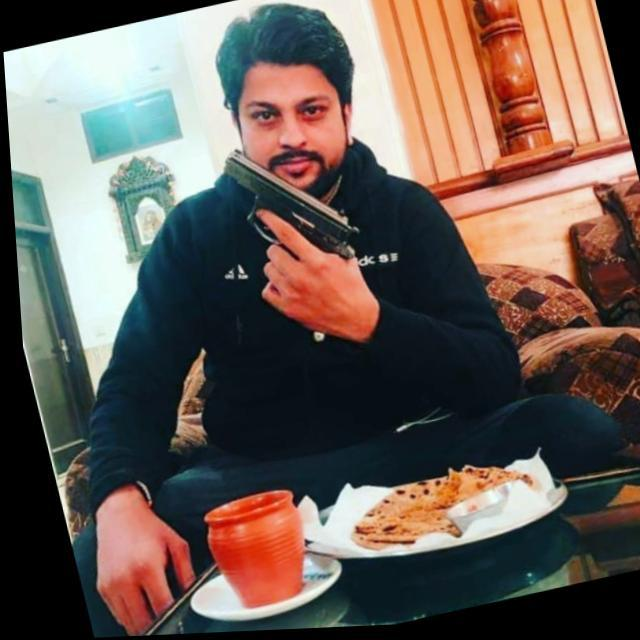weapon: (210, 126, 374, 313)
